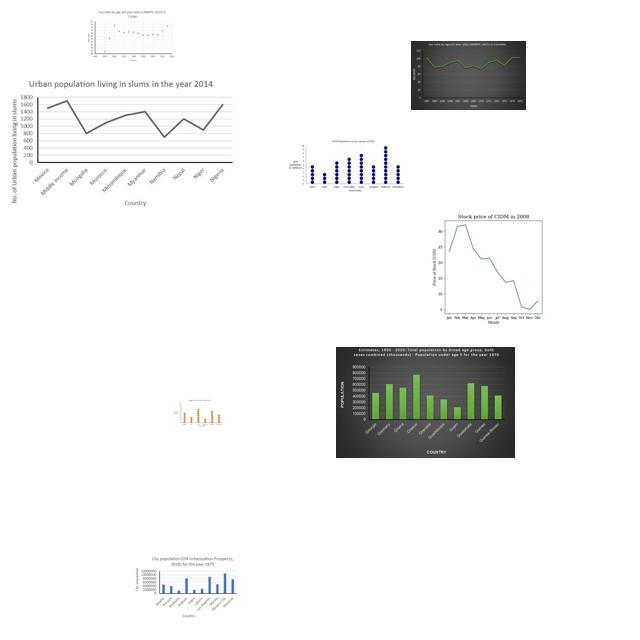Graph: (9, 76, 236, 209), (336, 347, 515, 458), (411, 206, 572, 327), (411, 41, 526, 110), (133, 555, 239, 621), (288, 139, 406, 193), (86, 9, 176, 63), (172, 399, 223, 428)
